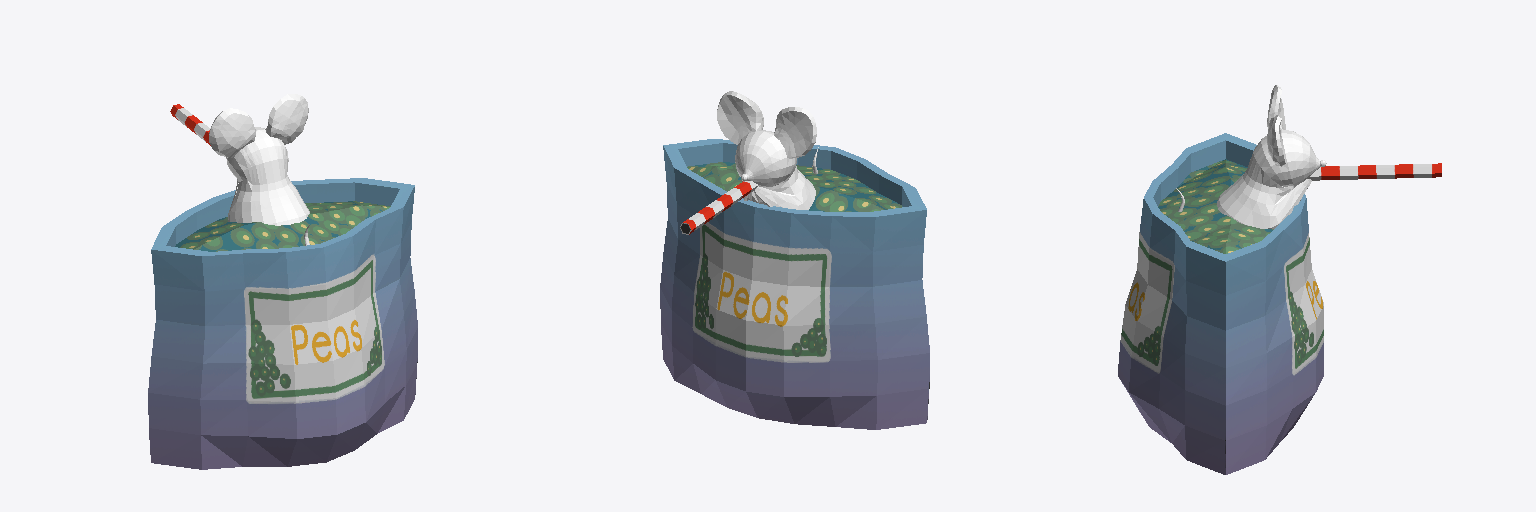
3 renders of one model, left to right at view 1: azimuth 30°, elevation 25°; view 2: azimuth 150°, elevation 25°; view 3: azimuth 270°, elevation 25°, orthographic.
Visible parts, largest first — view 1: Bag, MouseBase2, Straw; view 2: Bag, MouseBase2, Straw; view 3: Bag, MouseBase2, Straw.
Part boxes in pixels (bbox=[...]): Bag: bbox=[148, 178, 417, 469]; MouseBase2: bbox=[209, 94, 309, 245]; Straw: bbox=[170, 104, 210, 145]; Bag: bbox=[660, 139, 929, 429]; MouseBase2: bbox=[717, 91, 818, 209]; Straw: bbox=[680, 181, 757, 234]; Bag: bbox=[1118, 133, 1323, 474]; MouseBase2: bbox=[1176, 85, 1326, 228]; Straw: bbox=[1308, 163, 1441, 180].
Size of the model in its own units: 2.23 by 2.44 by 2.32.
2 materials, 1 textured.